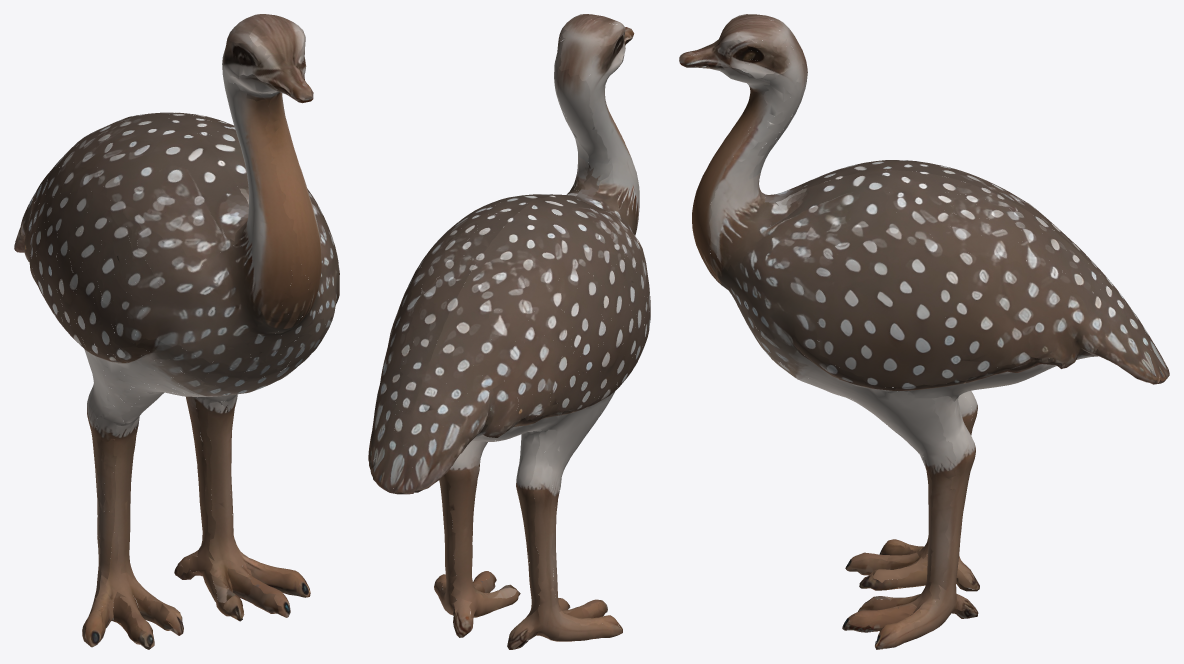
The model's file is choique.glb.
3 views of the same model, side by side, from view 1: azimuth 30°, elevation 25°; view 2: azimuth 150°, elevation 25°; view 3: azimuth 270°, elevation 25° (orthographic). The views are drawn at different scales.
Visible parts, largest first — view 1: choique; view 2: choique; view 3: choique.
Part boxes in pixels (x1,y1,x2,y2): choique: [14, 14, 339, 649]; choique: [368, 14, 650, 649]; choique: [679, 14, 1169, 649].
Size of the model in its own units: 0.3702 by 1 by 0.7608.
Materials: 1 (1 with a texture image).
